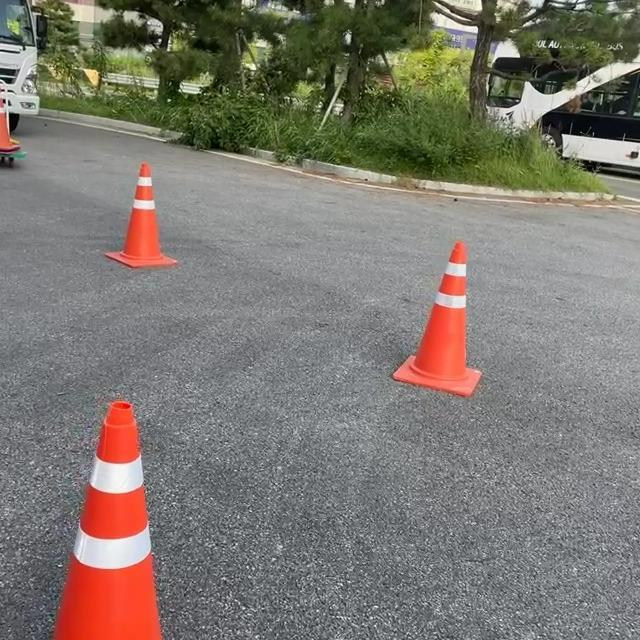fallen_object: (12, 341, 172, 640), (386, 229, 512, 415), (89, 157, 204, 297), (0, 90, 37, 151)
